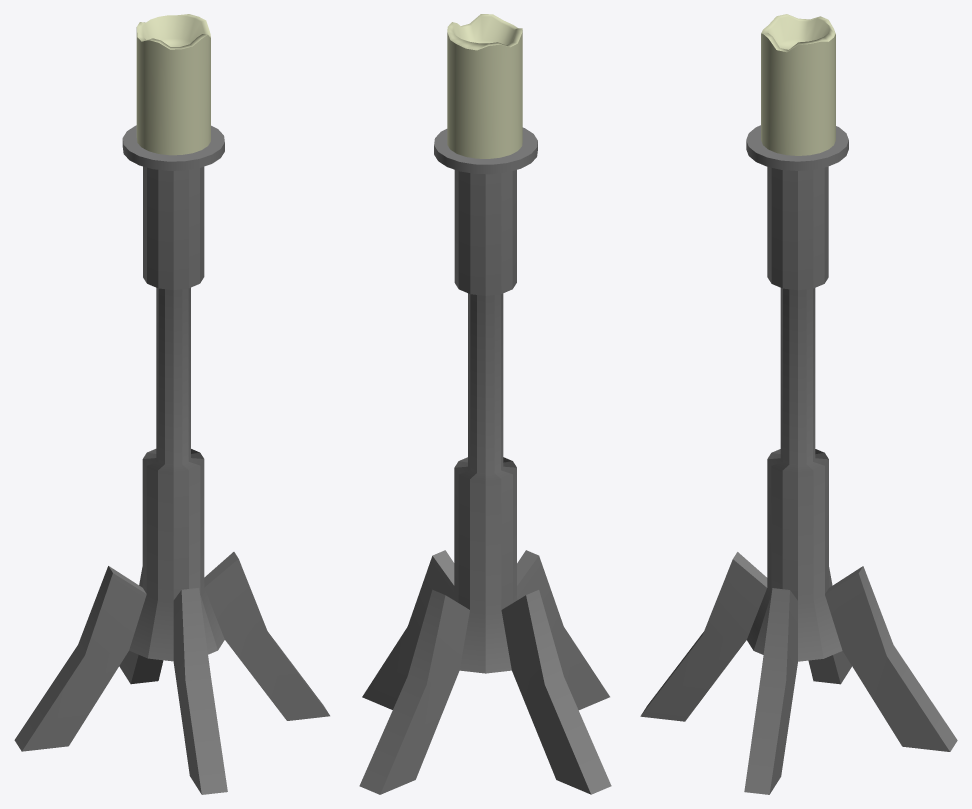
Rendered from candle stand.fbx.
3 views of the same model, side by side, from view 1: azimuth 30°, elevation 25°; view 2: azimuth 150°, elevation 25°; view 3: azimuth 270°, elevation 25° (orthographic).
Parts seen in each view (by area): view 1: candle1; view 2: candle1; view 3: candle1.
Boxes of the visible parts, x1,y1,x2,y2 form: candle1: (14, 14, 329, 794); candle1: (359, 14, 611, 794); candle1: (640, 14, 957, 794).
Bounding box in the file's own units: 6.15 × 15.03 × 6.18.
